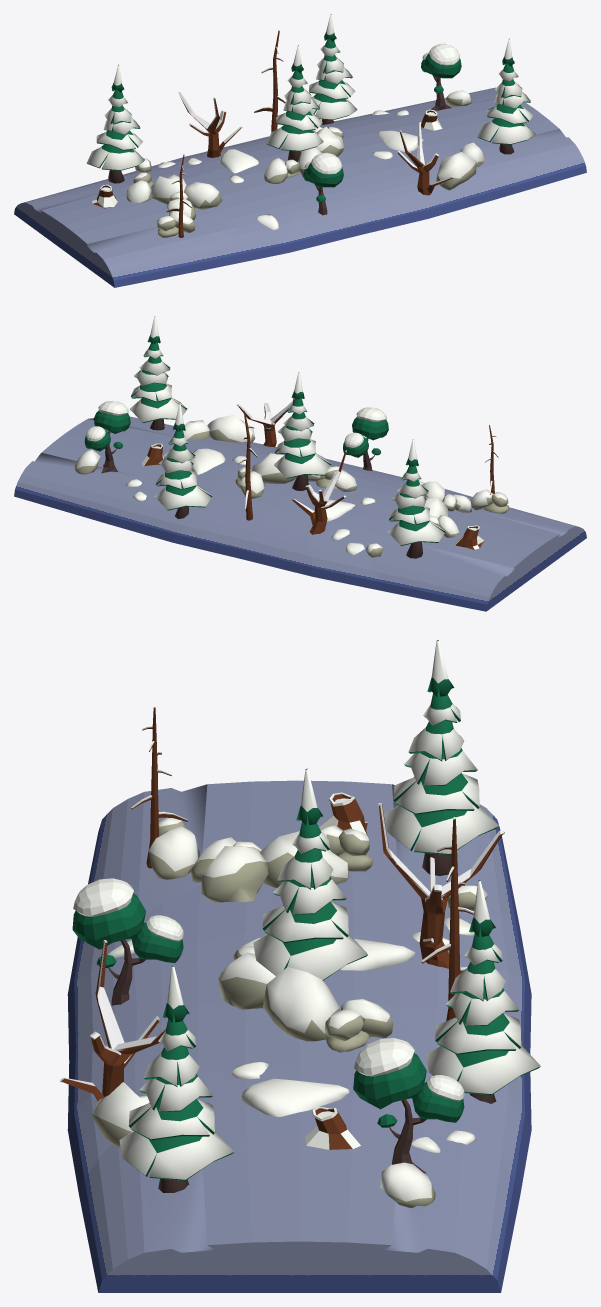
File: New Winter_wall.fbx
3 views of the same model, one above another, from view 1: azimuth 30°, elevation 25°; view 2: azimuth 150°, elevation 25°; view 3: azimuth 270°, elevation 25° (orthographic). The views are drawn at different scales.
Parts seen in each view (by area): view 1: Tree.185; view 2: Tree.185; view 3: Tree.185.
Boxes of the visible parts, x1=… form: Tree.185: x1=14, y1=14, x2=586, y2=287; Tree.185: x1=14, y1=316, x2=586, y2=611; Tree.185: x1=60, y1=640, x2=540, y2=1292.
Bounding box in the file's own units: 6893 × 2045 × 3041.
